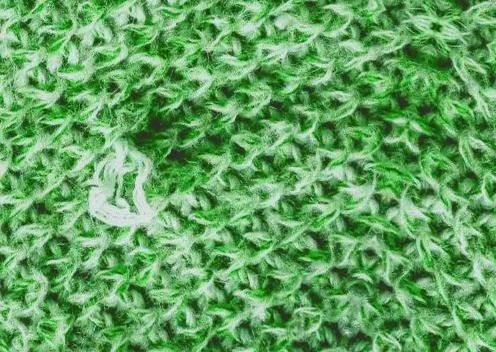snag: (70, 136, 172, 237)
